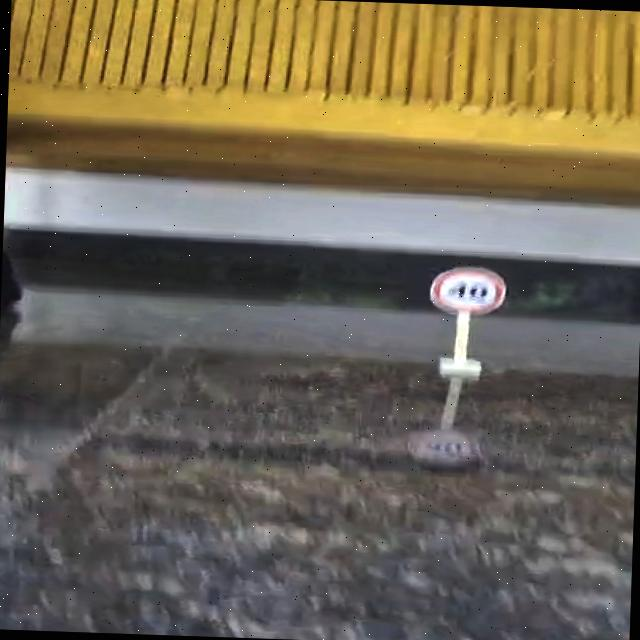Speed40: (421, 260, 512, 320)
